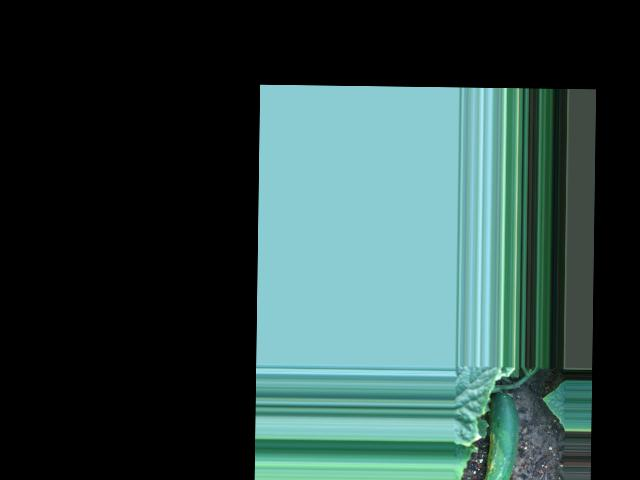cucumber: (483, 393, 519, 480)
